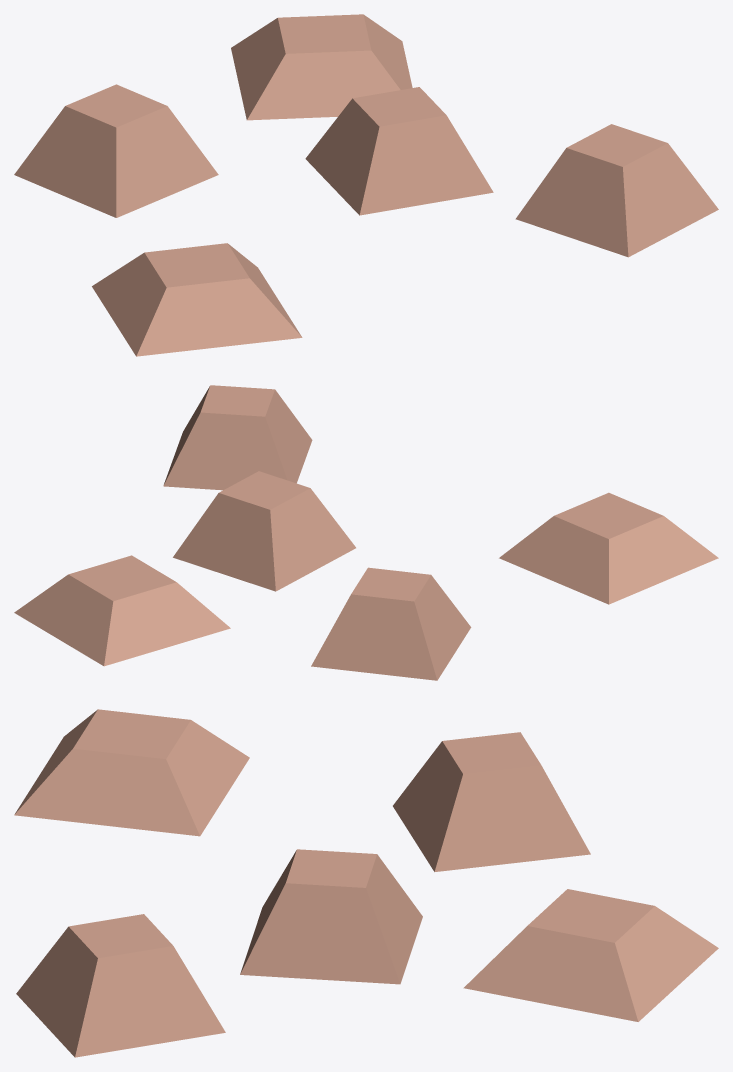
Rendered from rocks_smallA.glb.
The picture shows the model from 3 angles, top to bottom: view 1: azimuth 30°, elevation 25°; view 2: azimuth 150°, elevation 25°; view 3: azimuth 270°, elevation 25°; orthographic projection. The views are drawn at different scales.
Visible parts, largest first — view 1: rocks_smallA; view 2: rocks_smallA; view 3: rocks_smallA.
Part boxes in pixels (x1,y1,x2,y2): rocks_smallA: (14,14,718,356); rocks_smallA: (14,385,718,680); rocks_smallA: (14,709,718,1057).
Bounding box in the file's own units: 0.9372 × 0.105 × 0.8699.
